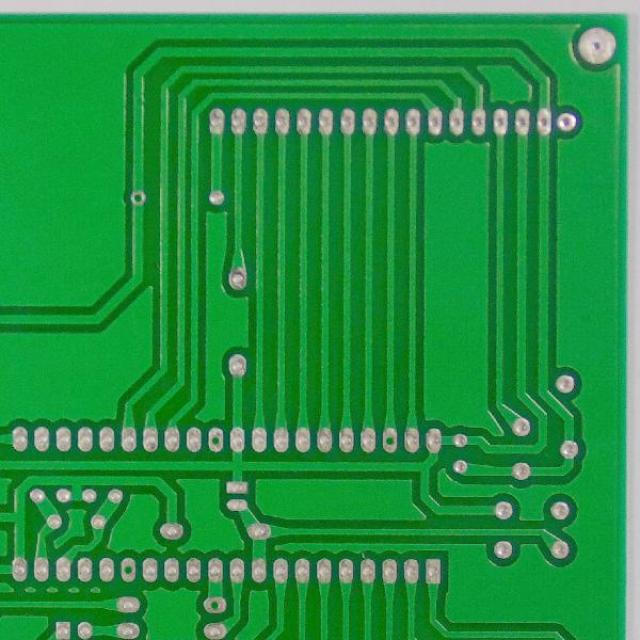Missing_Hole: (202, 594, 229, 615), (205, 426, 226, 453), (117, 556, 138, 582), (381, 427, 400, 452), (129, 188, 148, 207)
